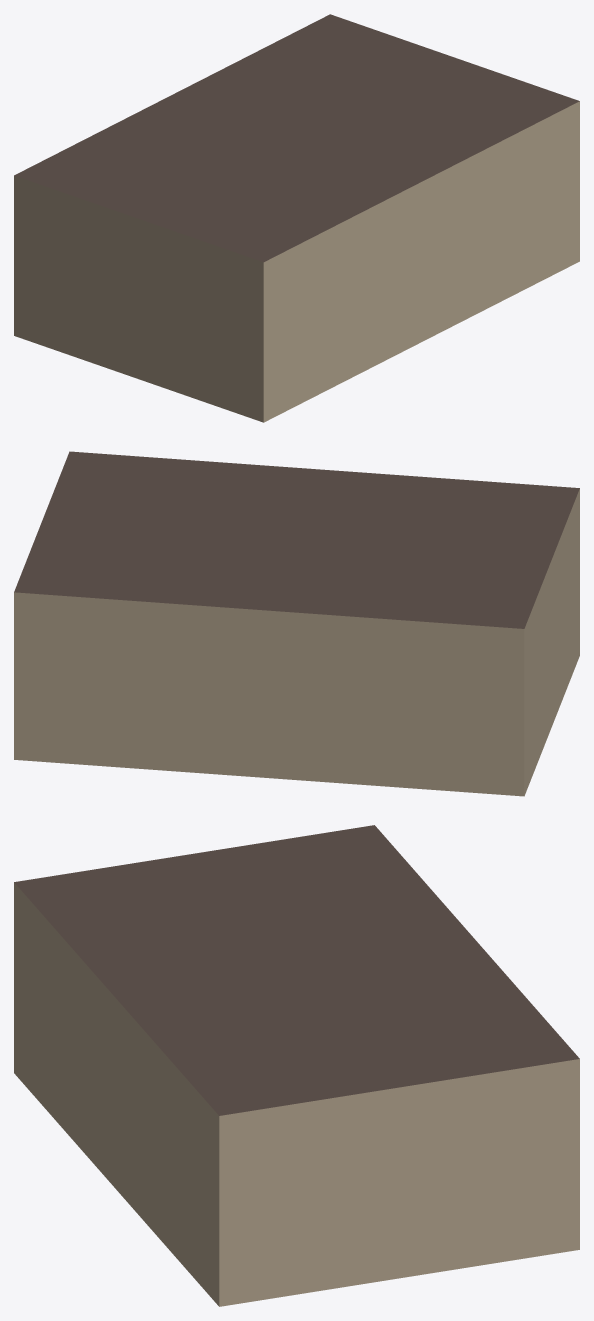
3 renders of one model, top to bottom at view 1: azimuth 30°, elevation 25°; view 2: azimuth 150°, elevation 25°; view 3: azimuth 270°, elevation 25°, orthographic. The views are drawn at different scales.
Parts seen in each view (by area): view 1: HP-w859078932; view 2: HP-w859078932; view 3: HP-w859078932.
Part boxes in pixels (x1=…): HP-w859078932: x1=14, y1=14, x2=579, y2=422; HP-w859078932: x1=14, y1=451, x2=579, y2=796; HP-w859078932: x1=14, y1=825, x2=579, y2=1306.
Bounding box in the file's own units: 29.41 × 9 × 24.18.
